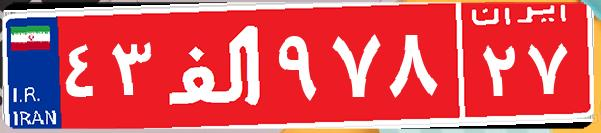2: (475, 38, 525, 113)
3: (110, 28, 158, 105)
4: (57, 26, 110, 107)
7: (330, 28, 385, 110), (525, 38, 570, 115)
8: (385, 28, 445, 110)
9: (273, 28, 330, 110)
الف: (158, 15, 273, 115)
